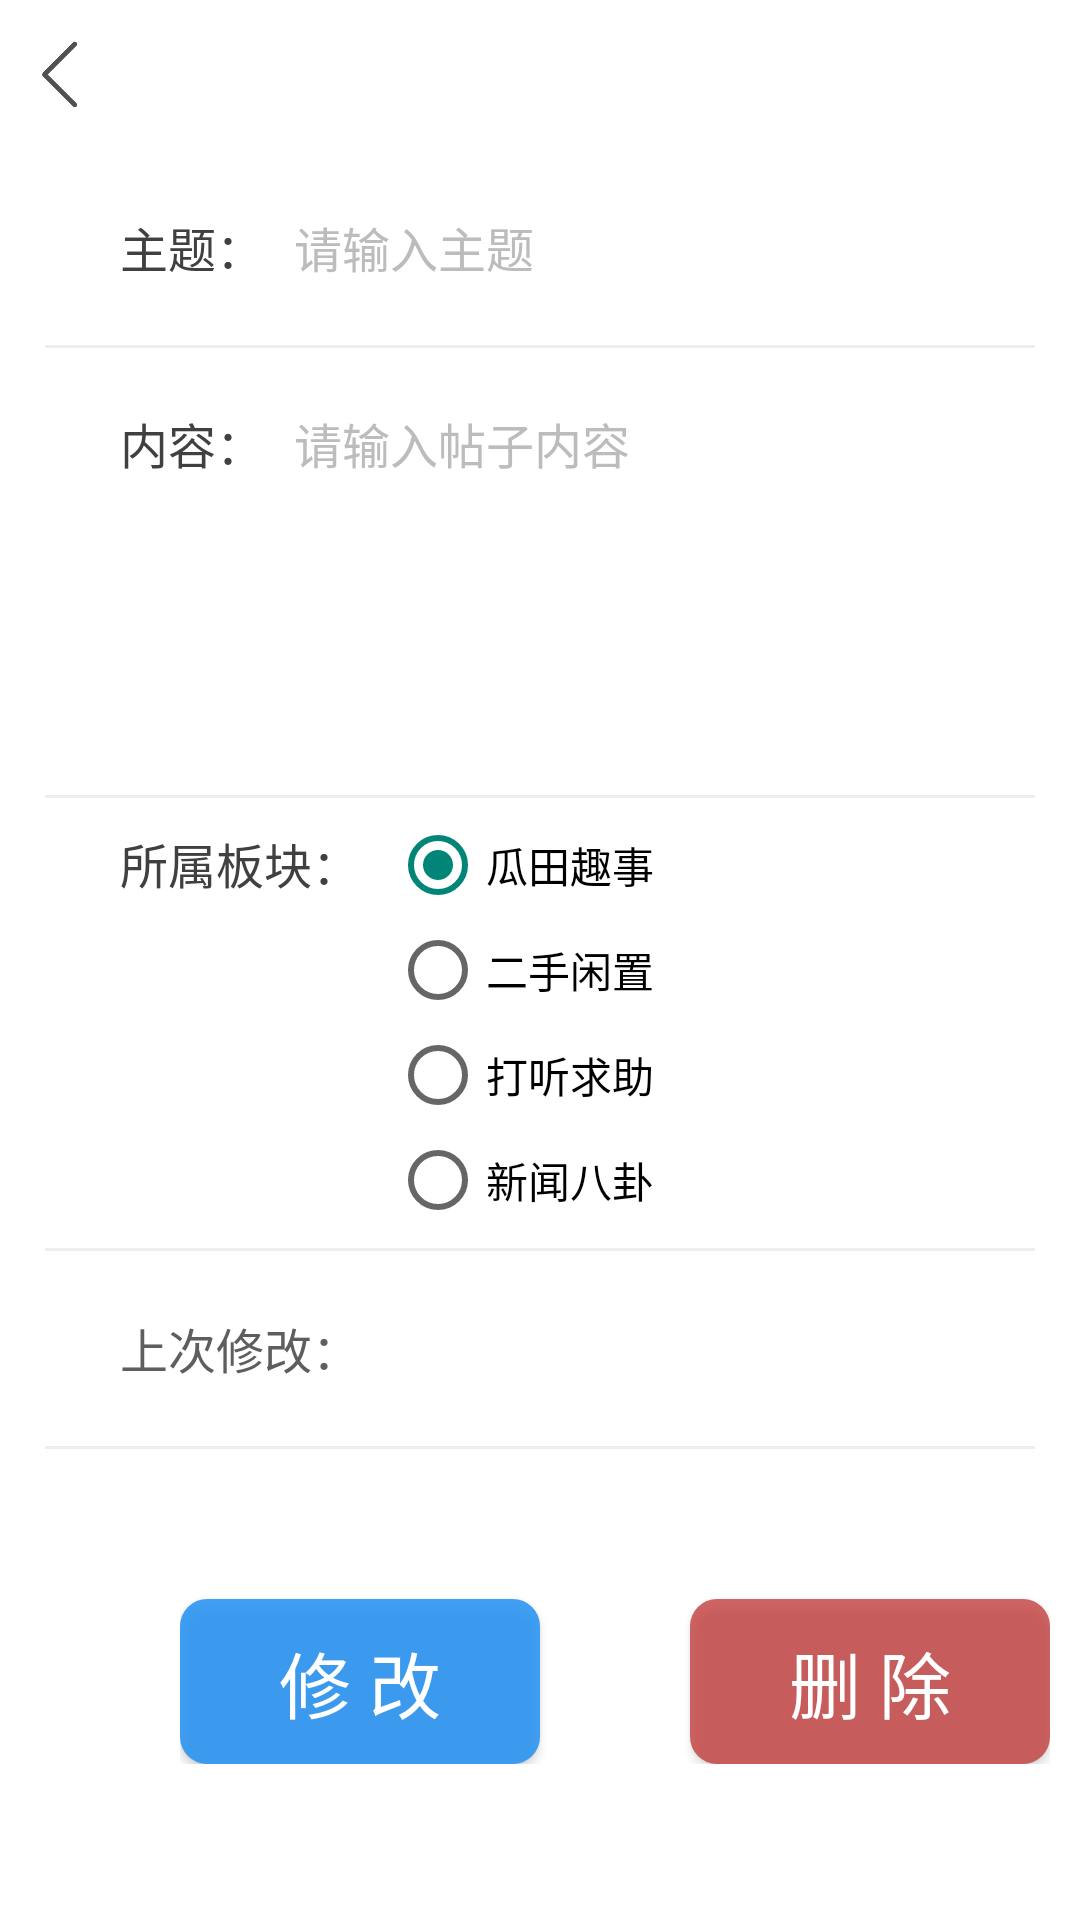

Icon click points for this 1080px x 1920px phone screenshot, format (x,y):
back: (59,74)
